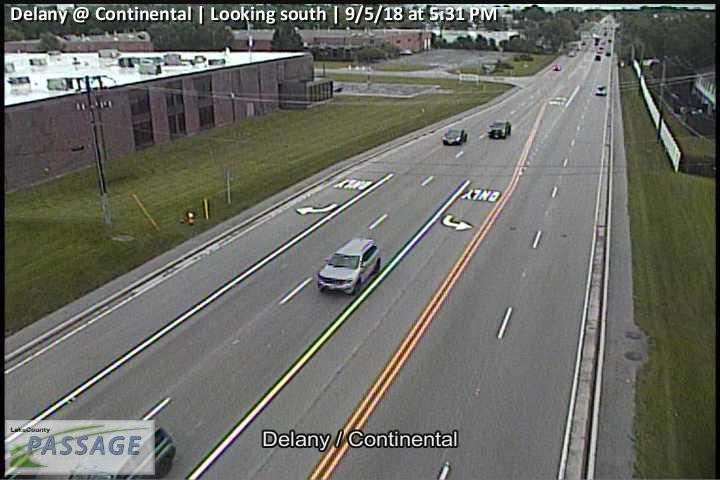SUV: (316, 238, 382, 298), (487, 119, 511, 141)
Sedan: (441, 128, 469, 146)
